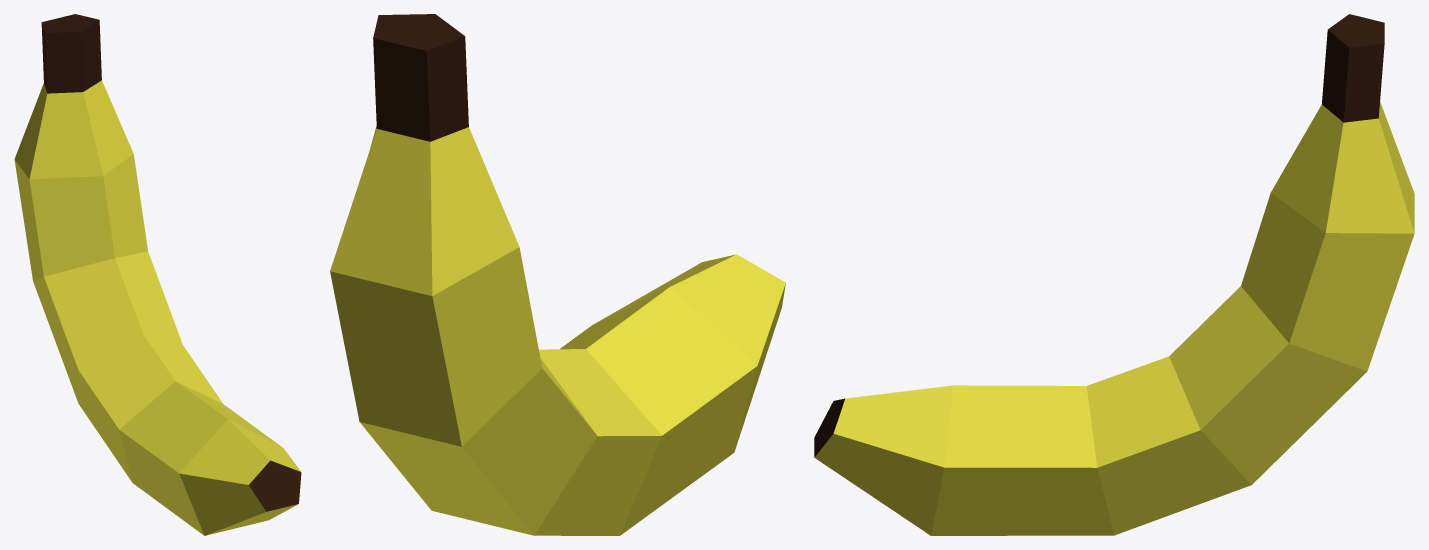
Rendered from banana_03.glb.
3 renders of one model, left to right at view 1: azimuth 30°, elevation 25°; view 2: azimuth 150°, elevation 25°; view 3: azimuth 270°, elevation 25°, orthographic. The views are drawn at different scales.
Parts seen in each view (by area): view 1: Cylinder; view 2: Cylinder; view 3: Cylinder.
Boxes of the visible parts, x1,y1,x2,y2 form: Cylinder: (14, 14, 301, 535); Cylinder: (330, 14, 785, 535); Cylinder: (814, 14, 1414, 535).
Size of the model in its own units: 0.1902 by 0.6664 by 0.7452.
